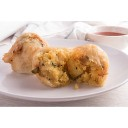bonda: (69, 44, 112, 87), (11, 34, 48, 74), (35, 47, 69, 85)
